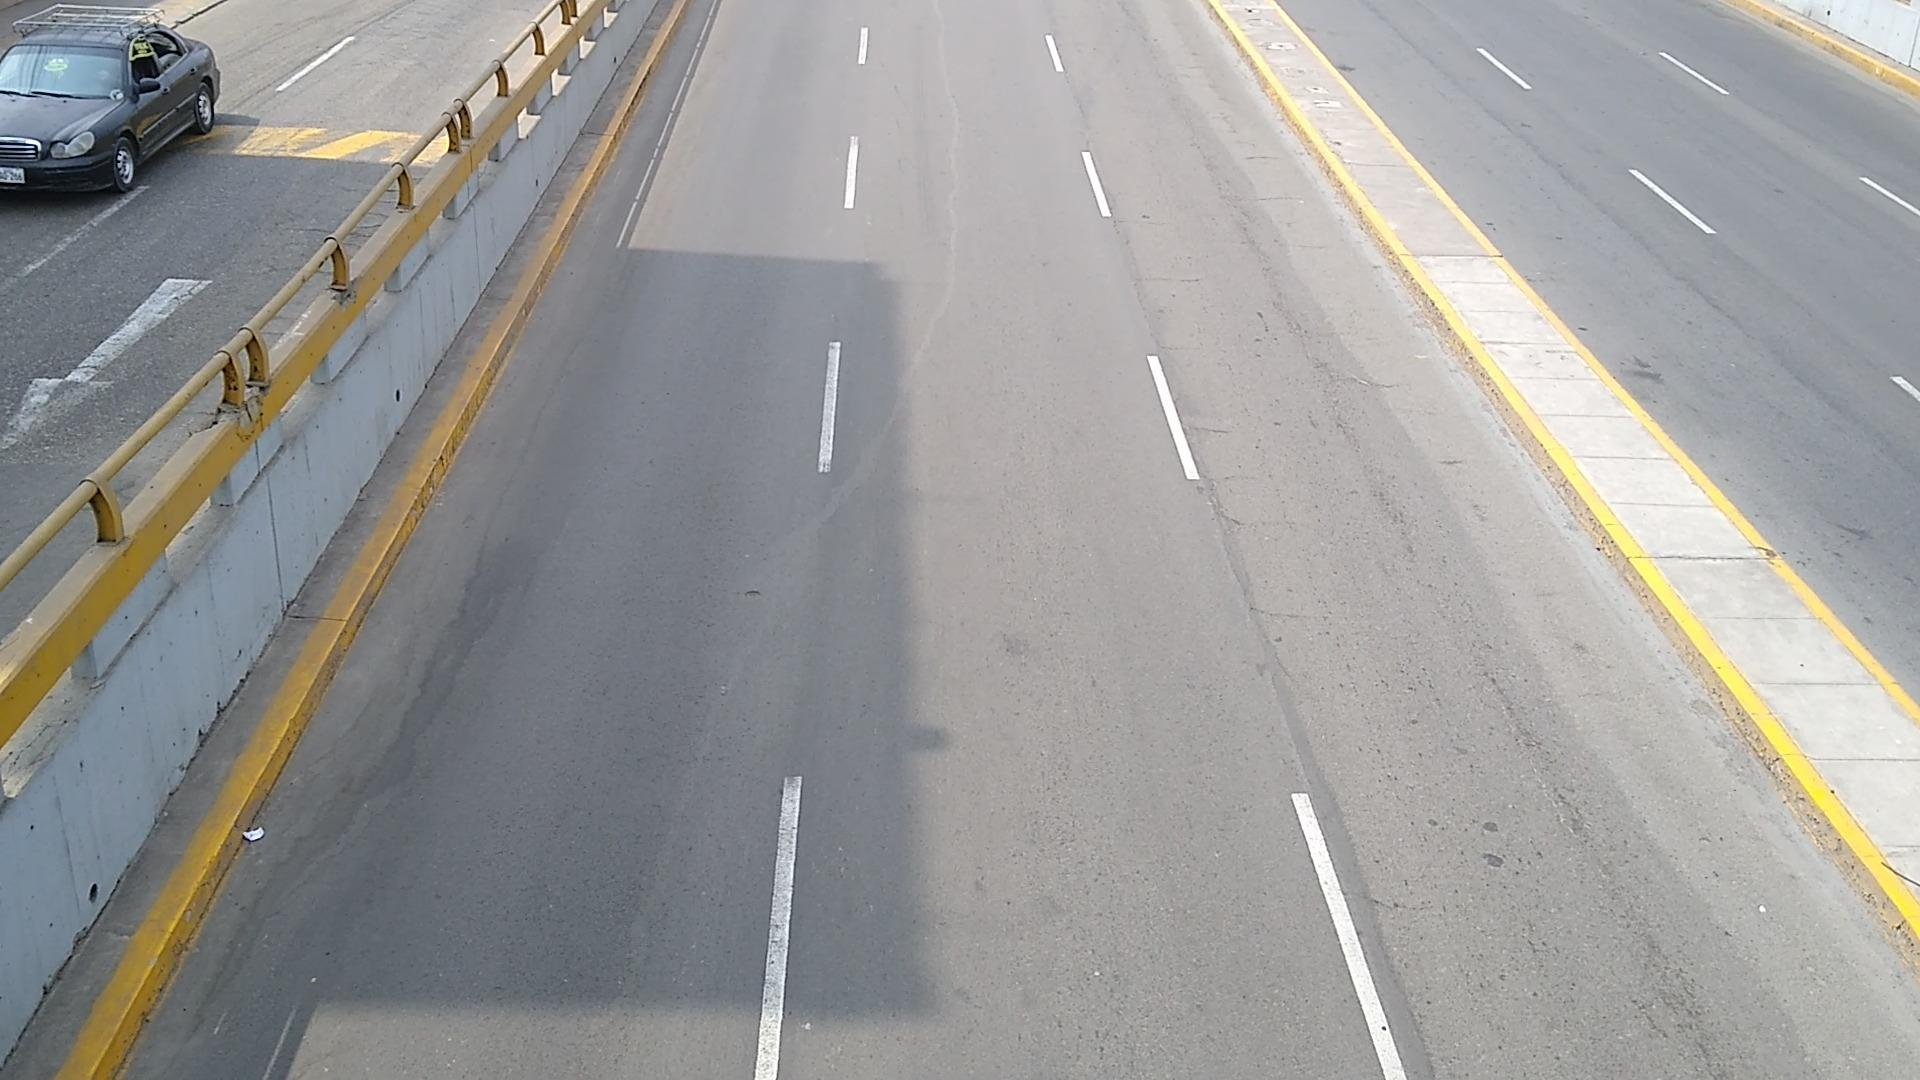car: (0, 8, 222, 190)
